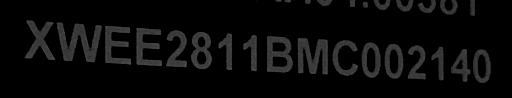letter: (53, 17, 103, 63), (20, 17, 58, 62), (292, 33, 330, 78), (101, 23, 135, 65), (134, 24, 164, 68), (329, 37, 361, 77), (263, 34, 295, 72), (164, 27, 190, 69), (215, 29, 239, 73), (188, 29, 214, 69), (239, 32, 263, 74), (358, 39, 382, 78), (404, 42, 428, 81), (382, 38, 404, 79), (448, 44, 472, 81), (469, 46, 493, 83), (428, 41, 448, 81)
